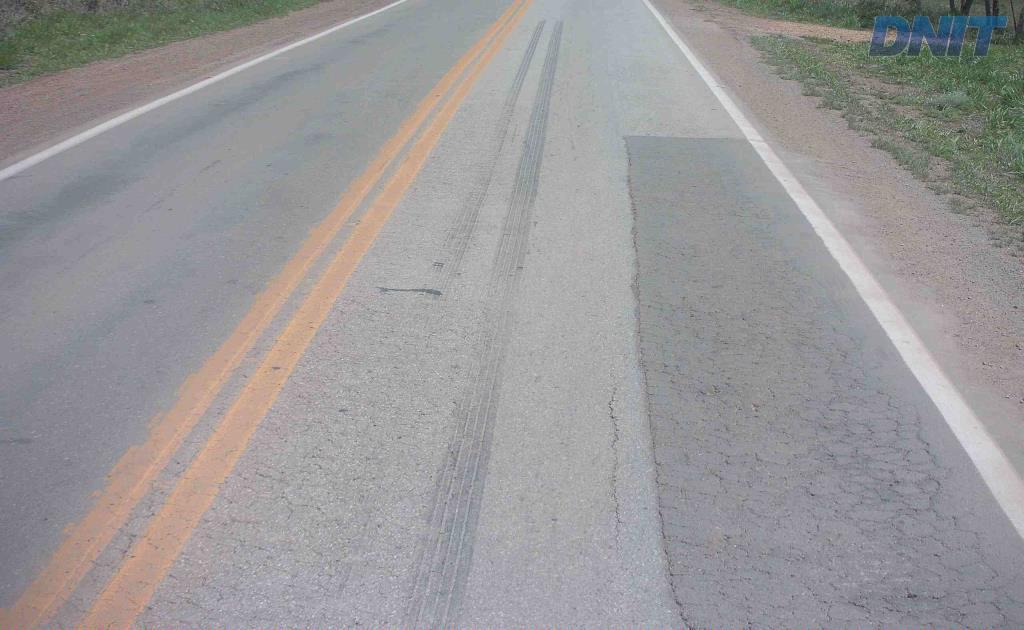crack: (657, 495, 712, 629), (877, 561, 955, 619), (974, 578, 1023, 628), (678, 381, 745, 417), (807, 443, 873, 474), (882, 506, 922, 553), (853, 467, 905, 502), (817, 409, 856, 444)
